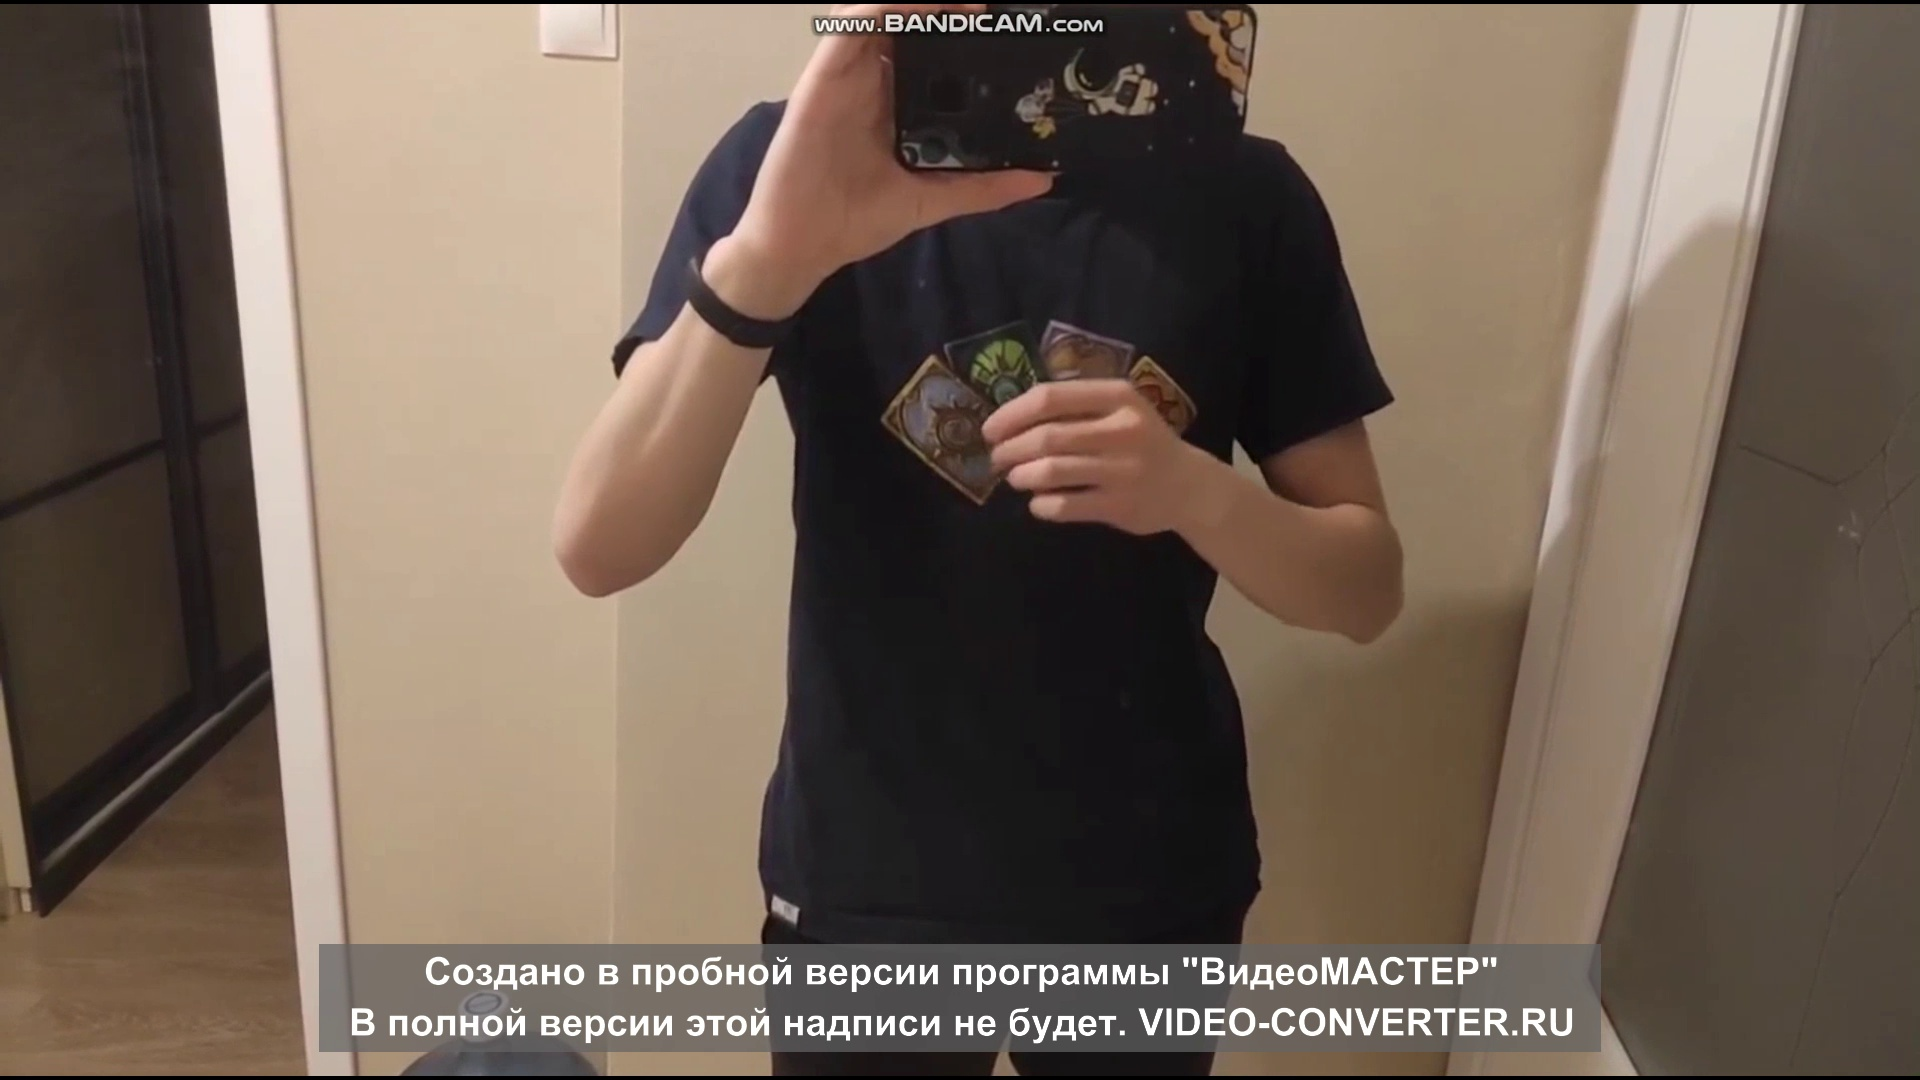Кисть: (978, 378, 1183, 535)
